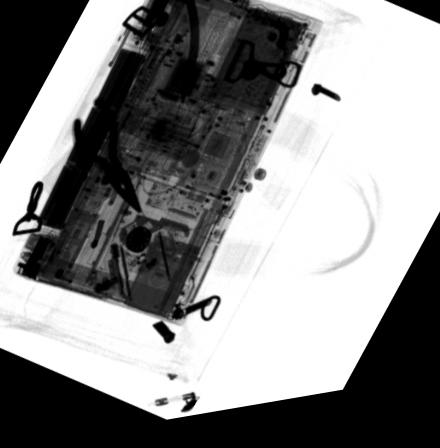Pliers: (69, 100, 142, 220)
